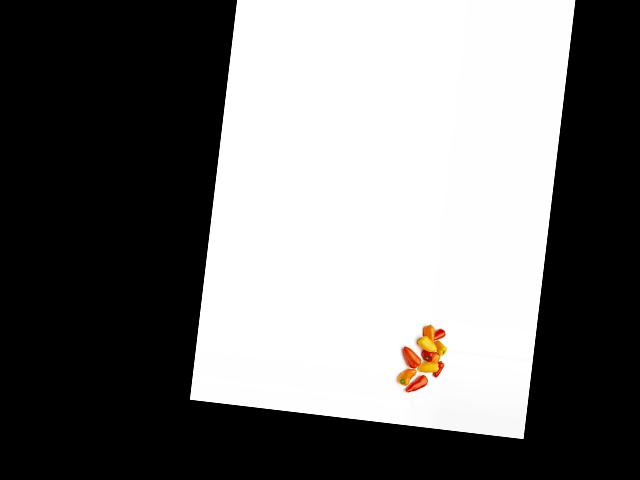bell_pepper: (433, 359, 445, 380)
